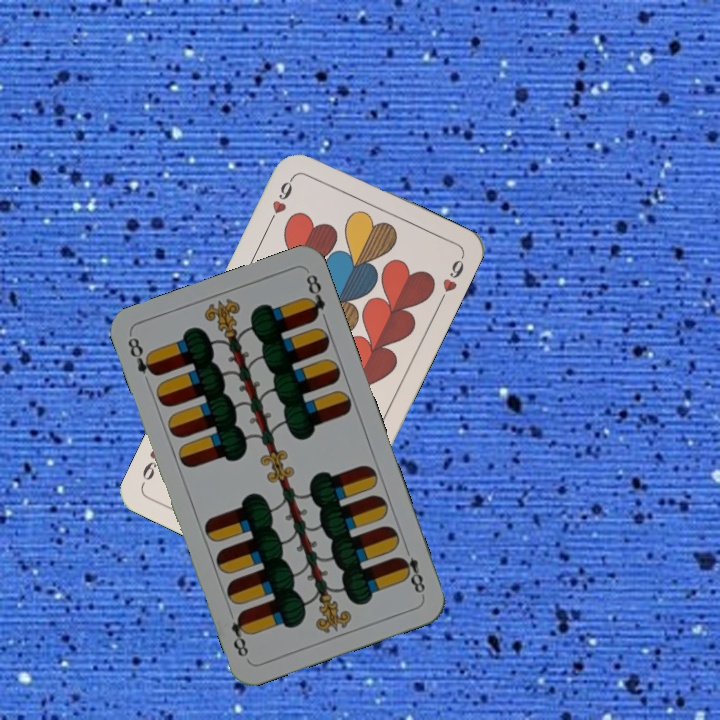E8: (394, 541, 428, 599), (123, 333, 160, 379)
H9: (264, 172, 298, 227)
